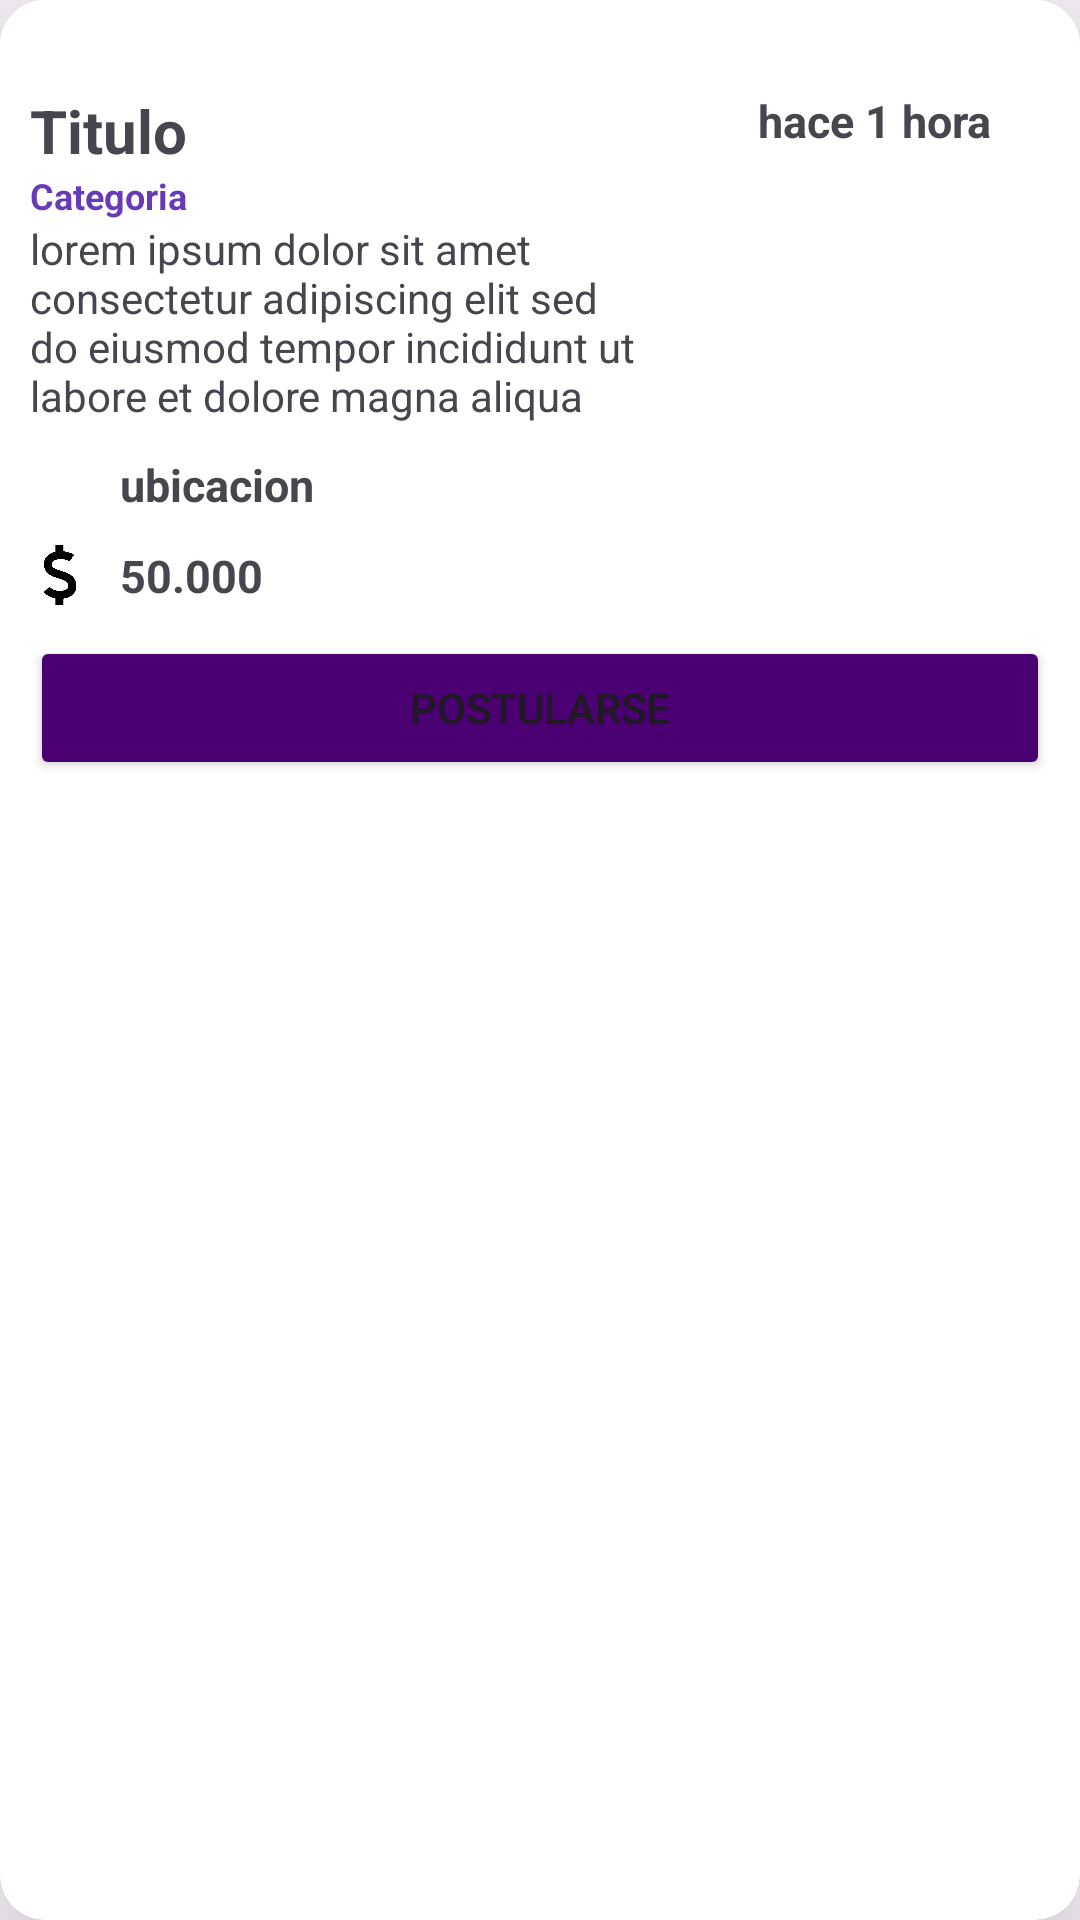

Named icons in this screenshot (1080px×1920px) and their bounding boxes, (x1, y1, x2, y2):
cash: (44, 545, 76, 605)
